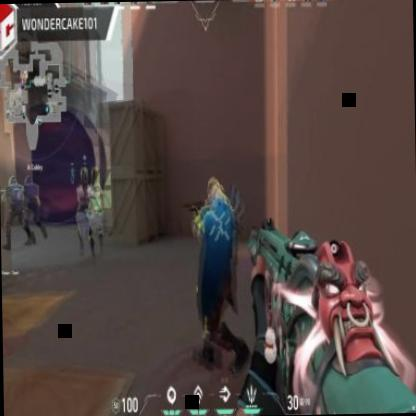enemy: (189, 172, 249, 376), (80, 163, 104, 254), (18, 170, 44, 244)
enemy_head: (206, 178, 224, 202), (89, 167, 97, 187), (24, 175, 32, 185)
